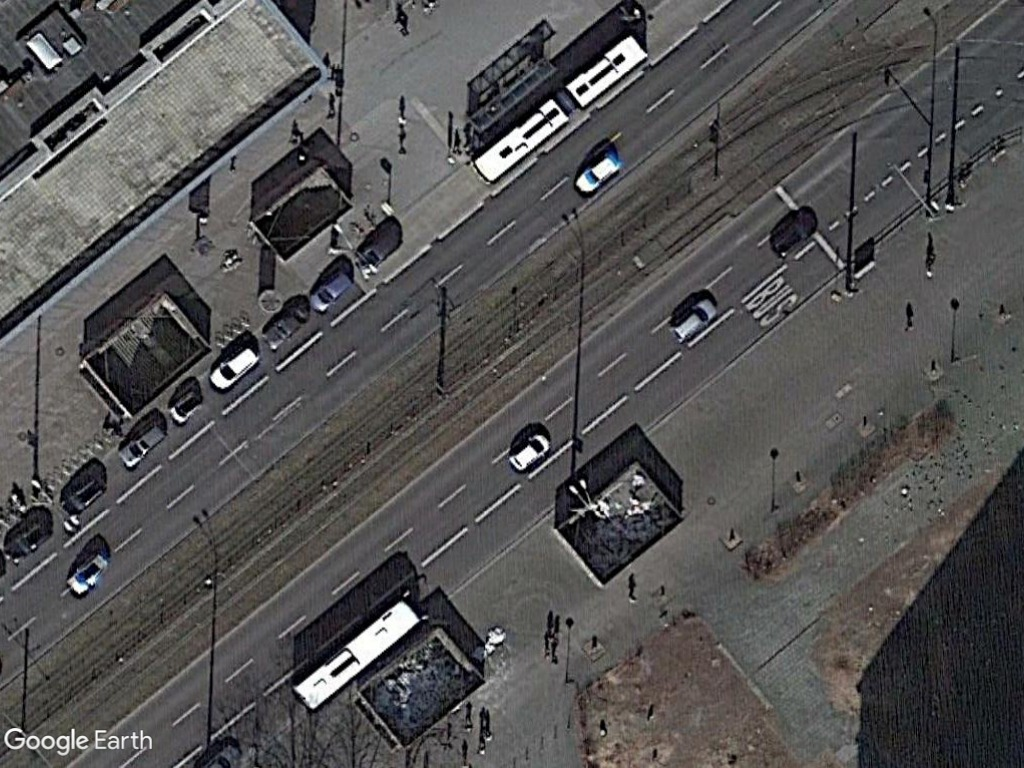bus: (286, 596, 428, 717), (466, 91, 571, 196), (557, 27, 652, 115)
car: (201, 342, 264, 395), (114, 413, 170, 472), (665, 291, 723, 346), (59, 547, 114, 605), (569, 149, 625, 199), (308, 262, 357, 319), (504, 428, 554, 476)
